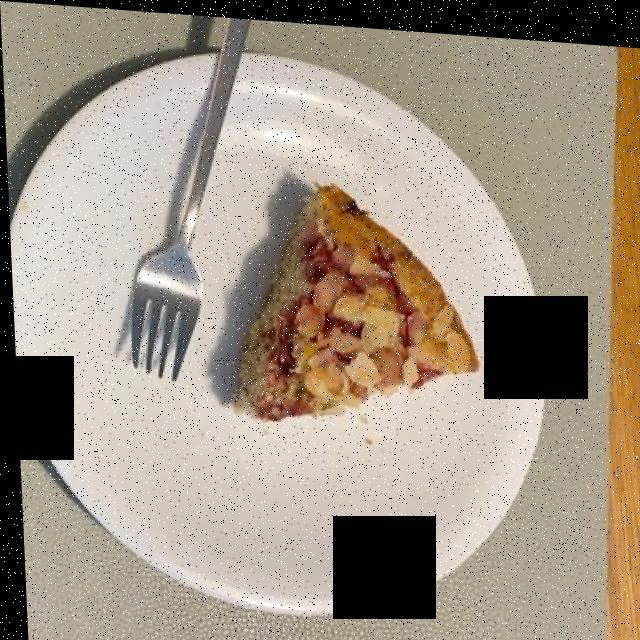almonds: (295, 236, 474, 406)
tart: (237, 181, 476, 410)
